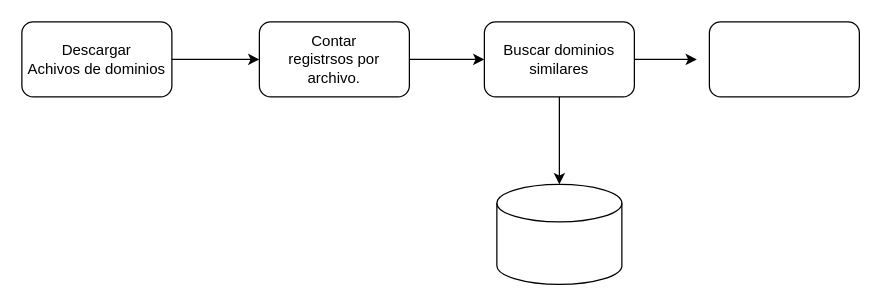
Some shapes in this 881 by 306 pixel diagram are drawn without their labels. Here are the shapes that lost their labels. From the top down, the centre of each, then its label:
At [783,59]: "Alamcenar Dominios Similares".
At [559,233]: "Dominios procesados por día".
